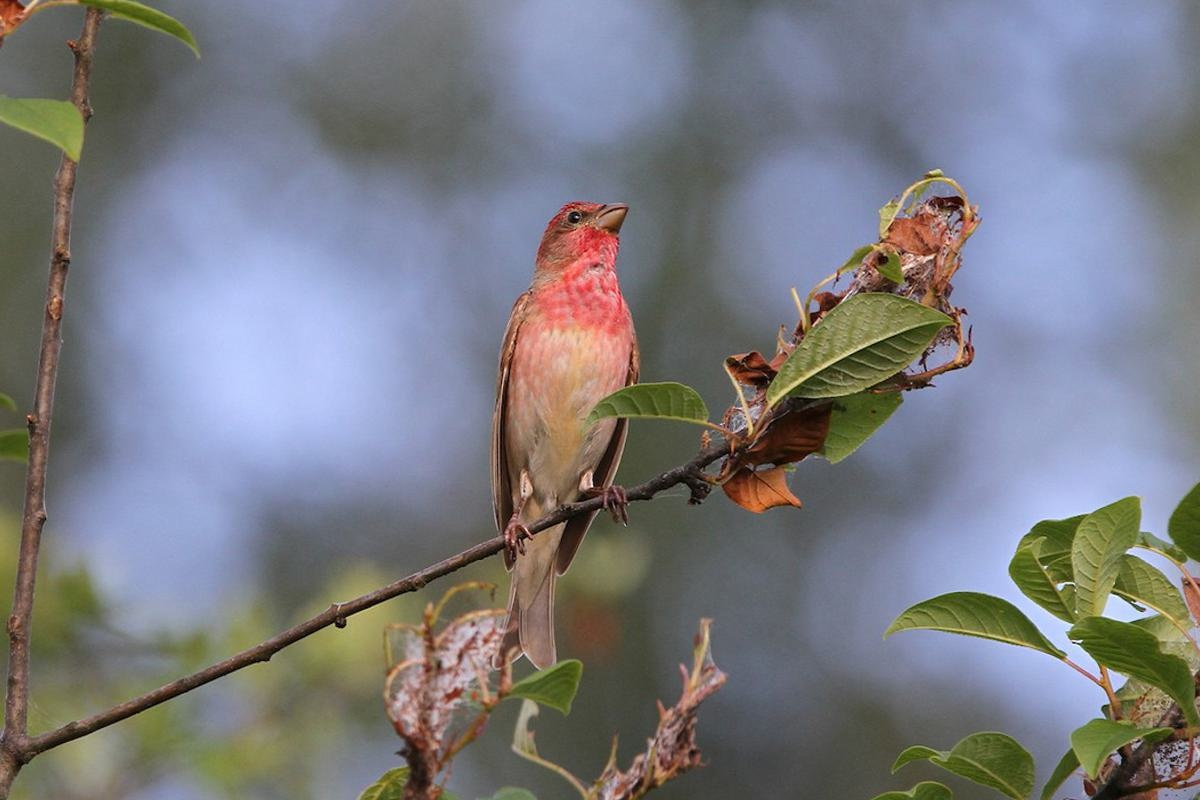rosefinch: (445, 164, 646, 680)
